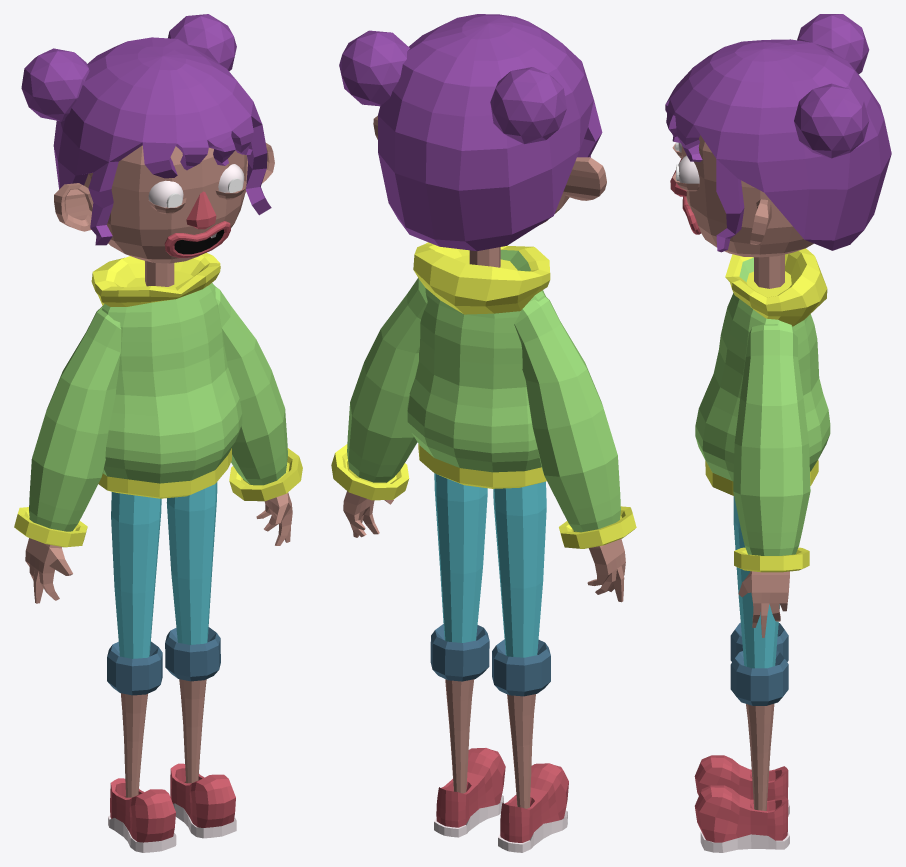
Rendered from girl animation.fbx.
3 renders of one model, left to right at view 1: azimuth 30°, elevation 25°; view 2: azimuth 150°, elevation 25°; view 3: azimuth 270°, elevation 25°, orthographic. The views are drawn at different scales.
Visible parts, largest first — view 1: girl model; view 2: girl model; view 3: girl model.
Boxes of the visible parts, bbox=[...] form: girl model: bbox=[14, 14, 302, 852]; girl model: bbox=[331, 14, 636, 852]; girl model: bbox=[665, 14, 891, 852].
Bounding box in the file's own units: 70.22 × 185 × 48.74.
